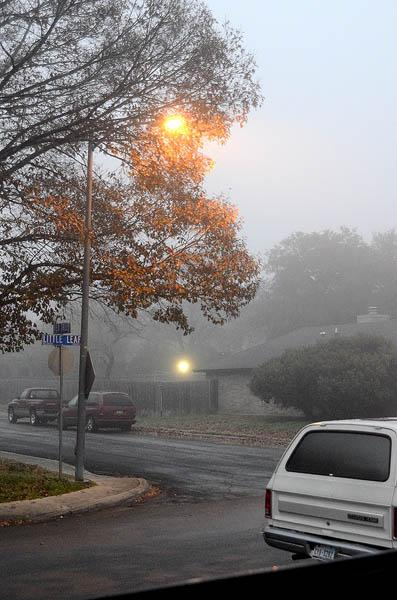car: (258, 413, 397, 567), (55, 391, 138, 433), (7, 387, 73, 427)
